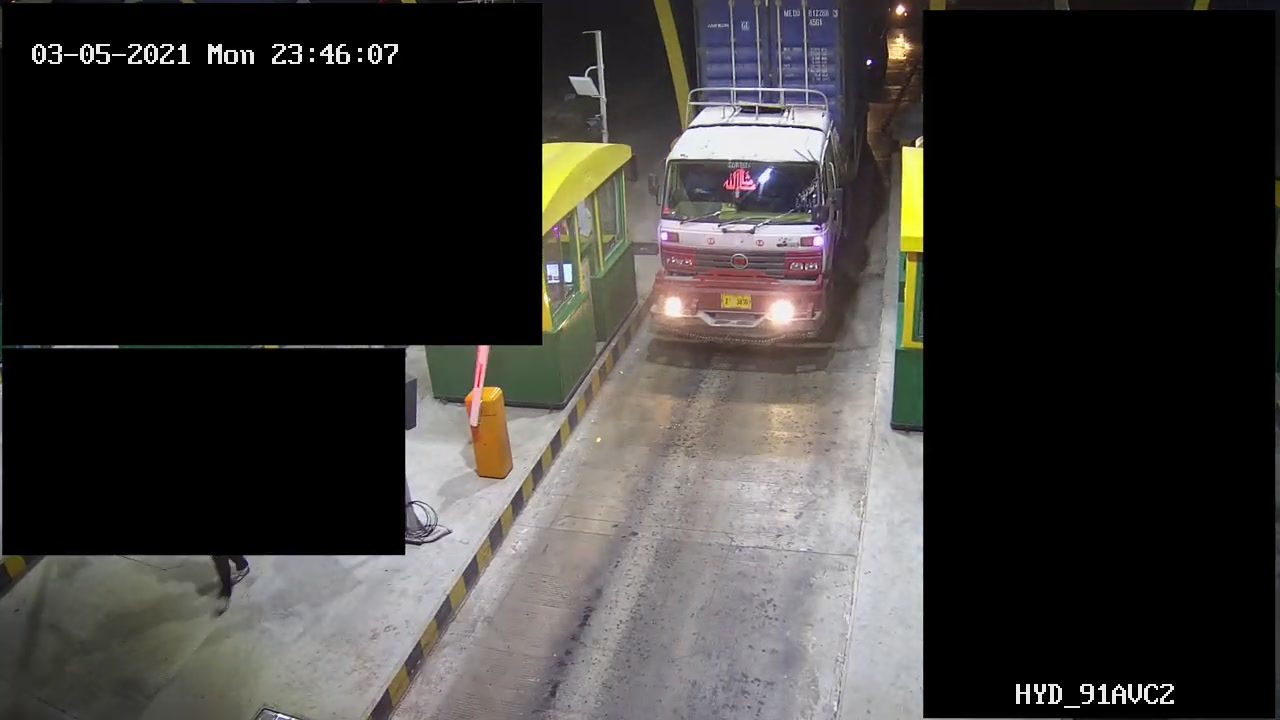F6: (642, 1, 878, 365)
